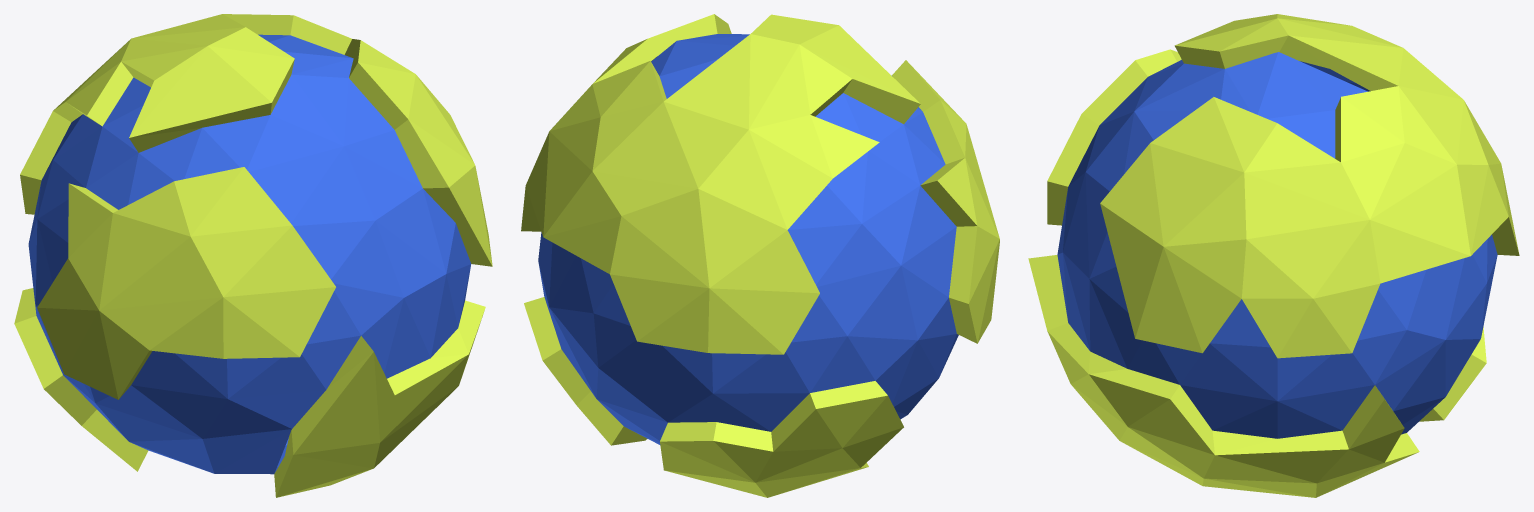
The model's file is tfr.glb.
The picture shows the model from 3 angles, left to right: view 1: azimuth 30°, elevation 25°; view 2: azimuth 150°, elevation 25°; view 3: azimuth 270°, elevation 25°; orthographic projection.
Visible parts, largest first — view 1: Icosphère.001, Icosphère; view 2: Icosphère.001, Icosphère; view 3: Icosphère.001, Icosphère.
Boxes of the visible parts, x1,y1,x2,y2 form: Icosphère.001: (14,14,492,497); Icosphère: (28,34,471,474); Icosphère.001: (521,14,999,497); Icosphère: (538,34,958,444); Icosphère.001: (1028,14,1519,497); Icosphère: (1057,52,1497,438).
Size of the model in its own units: 2.2 by 2.1 by 2.23.
